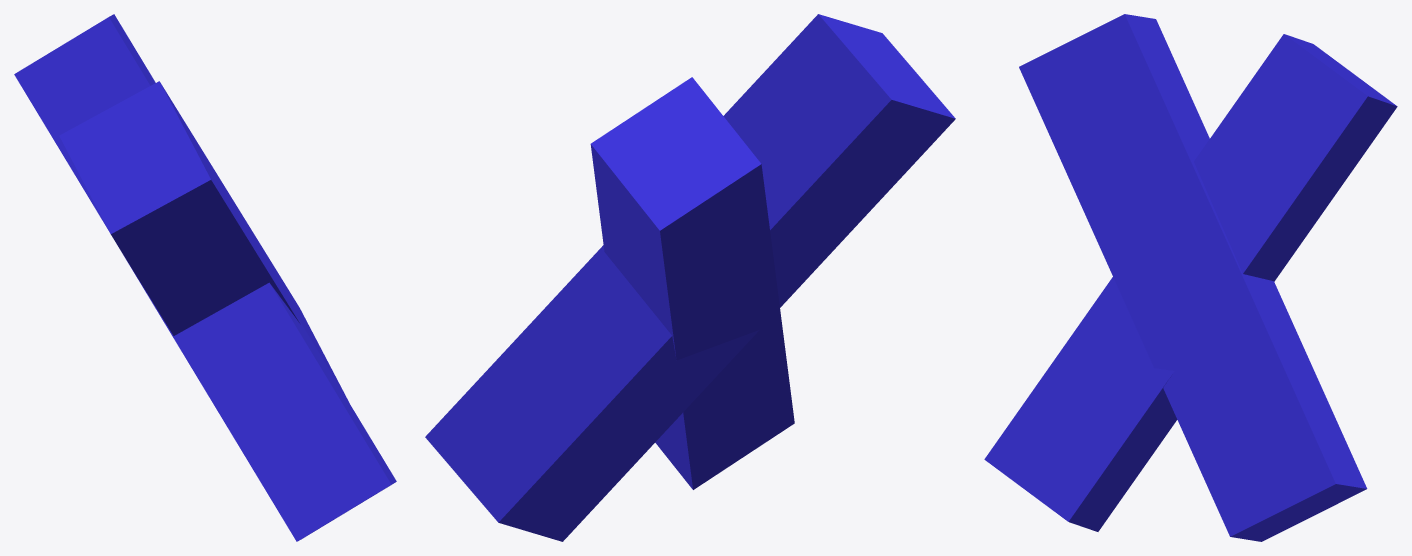
File: plus.glb
3 renders of one model, left to right at view 1: azimuth 30°, elevation 25°; view 2: azimuth 150°, elevation 25°; view 3: azimuth 270°, elevation 25°, orthographic. The views are drawn at different scales.
Parts seen in each view (by area): view 1: Cube; view 2: Cube; view 3: Cube.
Part boxes in pixels (x1,y1,x2,y2): Cube: (14,14,396,541); Cube: (425,14,955,541); Cube: (984,14,1397,541).
Size of the model in its own units: 2.02 by 2.73 by 2.24.
